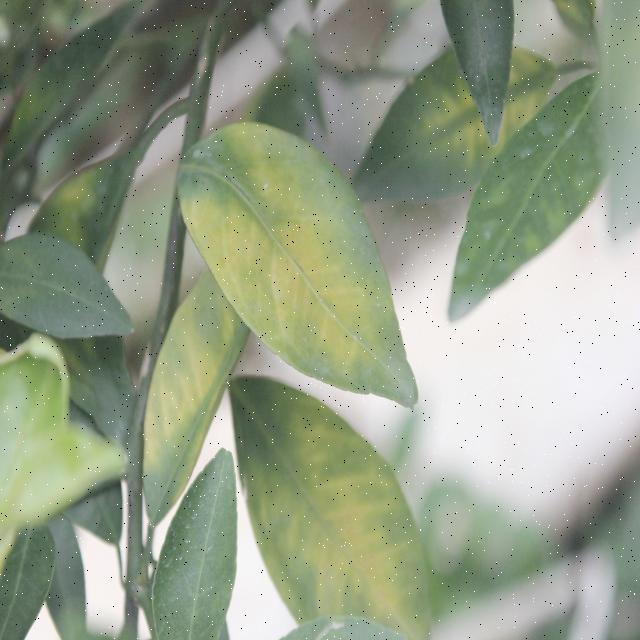greening: (186, 135, 404, 381), (251, 395, 418, 640), (140, 294, 248, 510), (416, 53, 556, 178)
